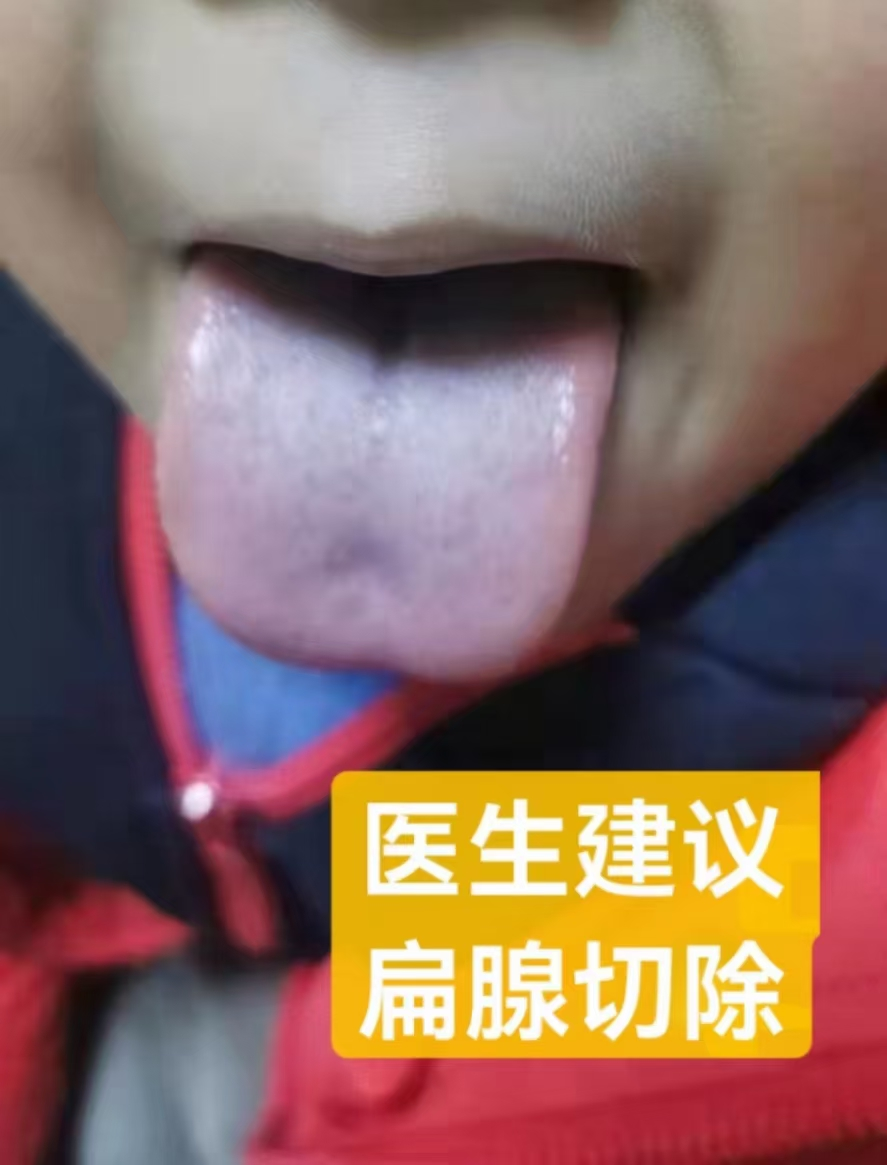baitaishe: (155, 245, 625, 680)
